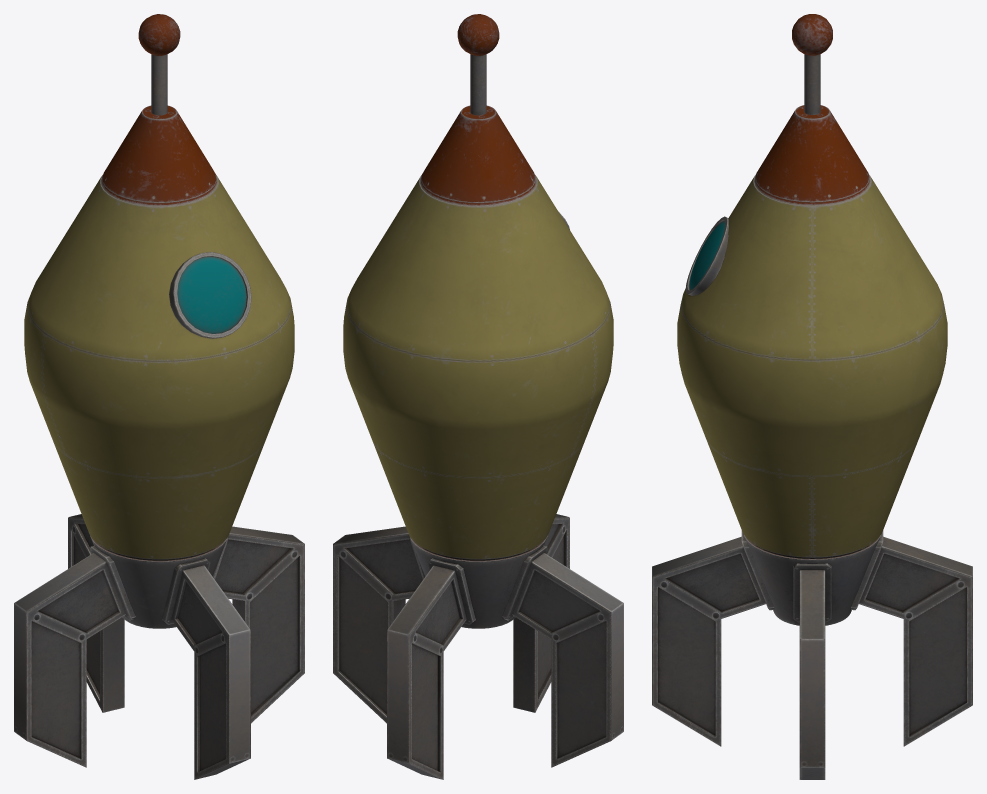
Rendered from Rocket_1.fbx.
3 views of the same model, side by side, from view 1: azimuth 30°, elevation 25°; view 2: azimuth 150°, elevation 25°; view 3: azimuth 270°, elevation 25° (orthographic).
Parts seen in each view (by area): view 1: Roket_1; view 2: Roket_1; view 3: Roket_1.
Boxes of the visible parts, left/top/right/bottom form: Roket_1: left=14, top=14, right=304, bottom=779; Roket_1: left=333, top=14, right=623, bottom=779; Roket_1: left=652, top=14, right=972, bottom=779.
Bounding box in the file's own units: 62.42 × 156 × 62.42.
